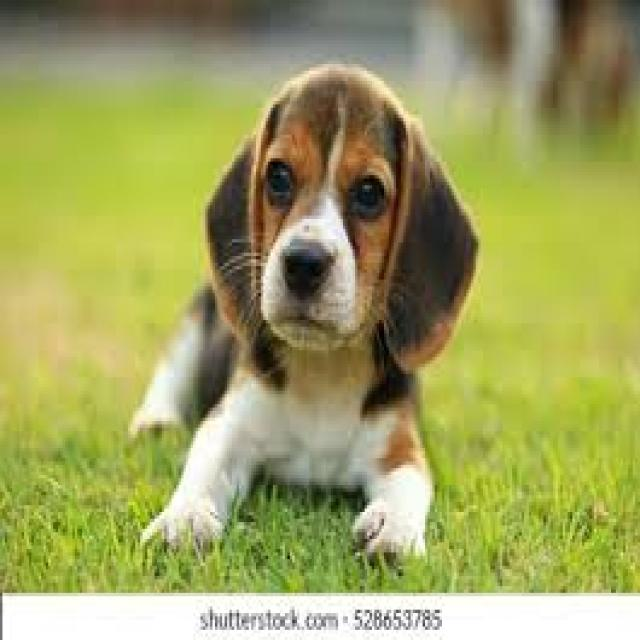Dog: (120, 57, 483, 570)
